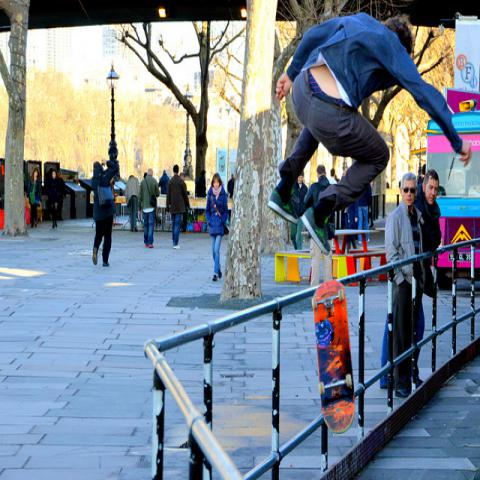bus: (424, 99, 479, 269)
truck: (423, 114, 480, 293)
